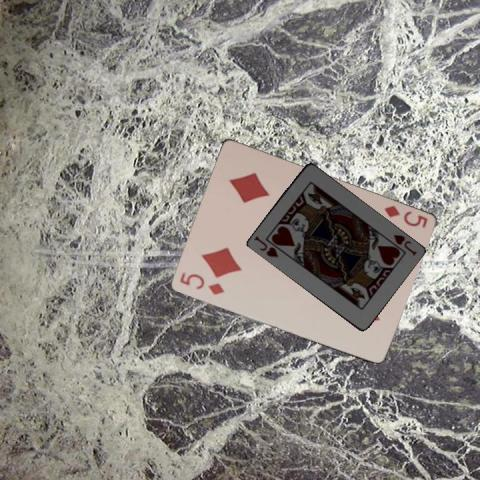5d: (176, 268, 225, 296), (380, 203, 428, 229)
Jh: (251, 232, 279, 258), (390, 232, 418, 258)
